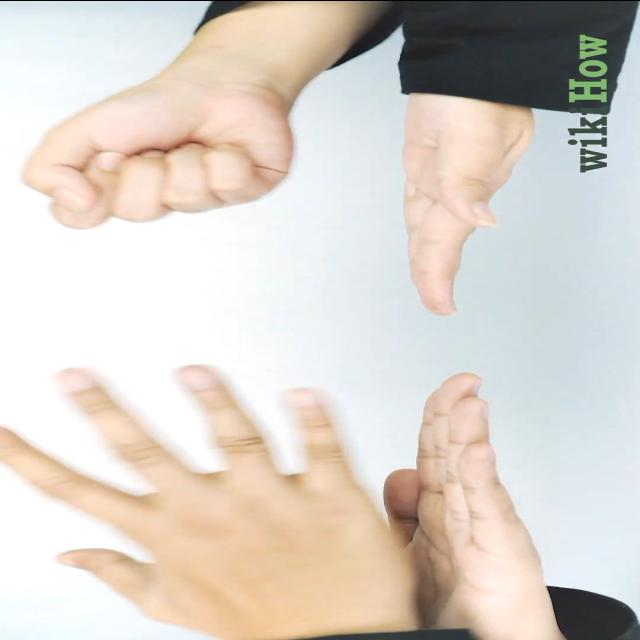Paper: (0, 362, 416, 638)
Rock: (18, 70, 300, 228)
